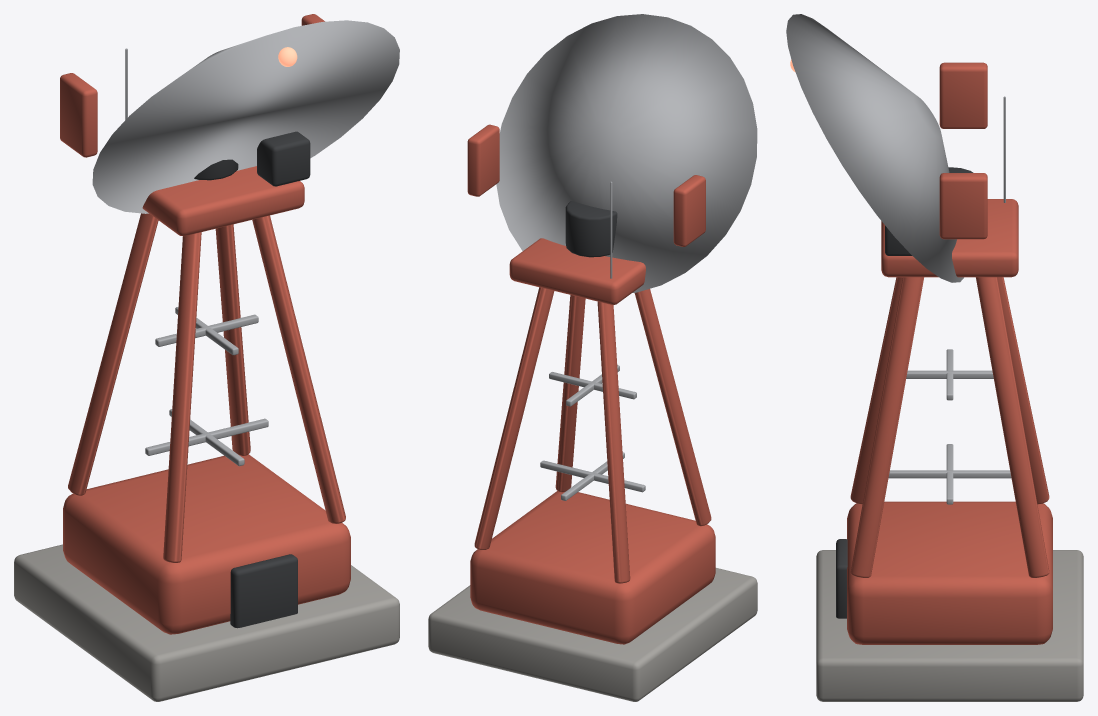
Rendered from building_radar.glb.
3 views of the same model, side by side, from view 1: azimuth 30°, elevation 25°; view 2: azimuth 150°, elevation 25°; view 3: azimuth 270°, elevation 25° (orthographic). The views are drawn at different scales.
Parts seen in each view (by area): view 1: Cube.001, Cone, Cube, Cube.007, Cylinder.003, Cylinder.001, Cylinder.002, Cube.002, Cylinder, Cube.010, Cube.008, Cube.003 (+3 smaller); view 2: Cone, Cube.001, Cube, Cube.007, Cylinder.002, Cylinder, Cylinder.003, Cylinder.001, Cylinder.005, Cube.009, Cube.010, Cube.003 (+1 smaller); view 3: Cube.001, Cone, Cube, Cylinder, Cylinder.001, Cube.007, Cube.009, Cube.010, Cylinder.002, Cylinder.003, Cube.004, Cube.002 (+2 smaller).
Part boxes in pixels (left/top/right/bottom): Cube.001: left=63, top=454, right=350, bottom=634; Cone: left=92, top=20, right=399, bottom=213; Cube: left=14, top=544, right=399, bottom=701; Cube.007: left=142, top=166, right=304, bottom=236; Cylinder.003: left=163, top=232, right=201, bottom=562; Cylinder.001: left=252, top=215, right=345, bottom=523; Cylinder.002: left=68, top=213, right=158, bottom=495; Cube.002: left=230, top=554, right=297, bottom=628; Cylinder: left=215, top=224, right=250, bottom=455; Cube.010: left=60, top=73, right=97, bottom=157; Cube.008: left=257, top=131, right=310, bottom=186; Cube.003: left=145, top=418, right=268, bottom=455; Cone: left=496, top=14, right=757, bottom=292; Cube.001: left=470, top=491, right=715, bottom=644; Cube: left=428, top=568, right=757, bottom=701; Cube.007: left=509, top=238, right=645, bottom=304; Cylinder.002: left=597, top=301, right=630, bottom=583; Cylinder: left=474, top=287, right=554, bottom=549; Cylinder.003: left=634, top=289, right=711, bottom=526; Cylinder.001: left=555, top=295, right=585, bottom=492; Cylinder.005: left=565, top=201, right=617, bottom=257; Cube.009: left=467, top=124, right=499, bottom=196; Cube.010: left=673, top=175, right=705, bottom=246; Cube.003: left=540, top=460, right=645, bottom=492; Cube.001: left=847, top=501, right=1052, bottom=644; Cone: left=786, top=14, right=963, bottom=282; Cube: left=816, top=550, right=1083, bottom=701; Cylinder: left=976, top=277, right=1049, bottom=577; Cylinder.001: left=850, top=277, right=923, bottom=577; Cube.007: left=881, top=199, right=1018, bottom=277; Cube.009: left=939, top=173, right=987, bottom=239; Cube.010: left=939, top=62, right=987, bottom=128; Cylinder.002: left=997, top=277, right=1049, bottom=504; Cylinder.003: left=850, top=277, right=902, bottom=504; Cube.004: left=888, top=470, right=1011, bottom=478; Cube.002: left=836, top=539, right=847, bottom=618.
Bounding box in the file's own units: 2.3 × 4.96 × 2.17.
